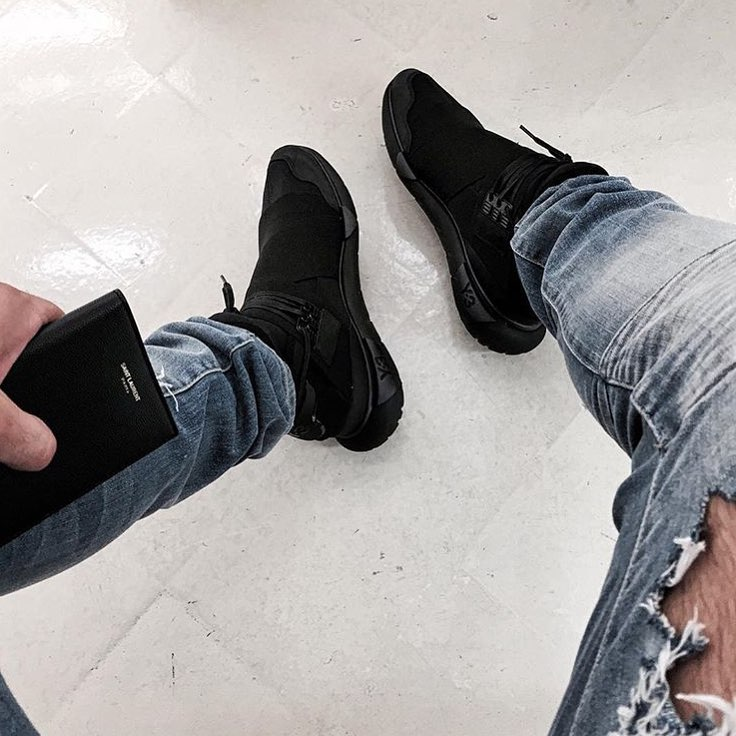sneaker: (352, 40, 633, 387), (164, 128, 426, 473)
